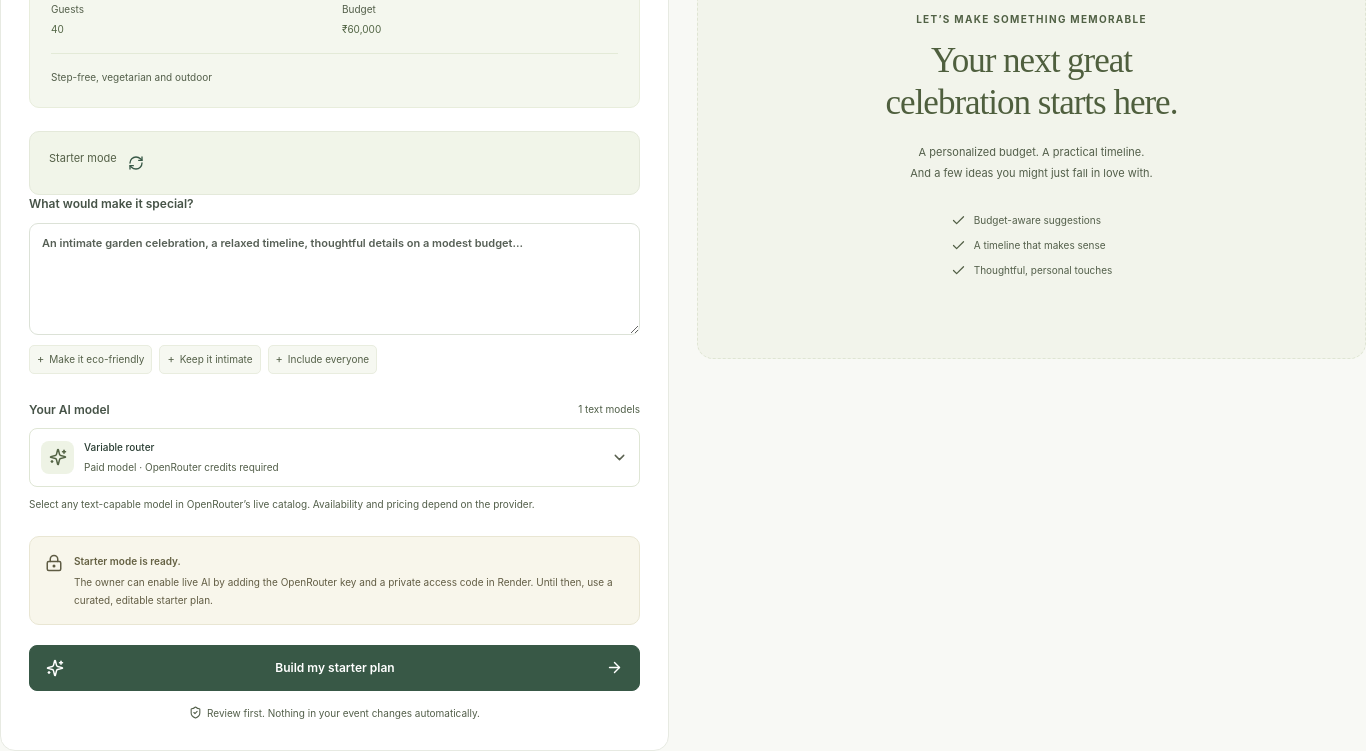
variable-price routes never display negative dollar prices in the model picker
(page scrolled)
What coordinates should you click on to do the following:
click the button named "Your AI model"
I would click on:
 (58, 457)
Its box is [29, 428, 640, 487].
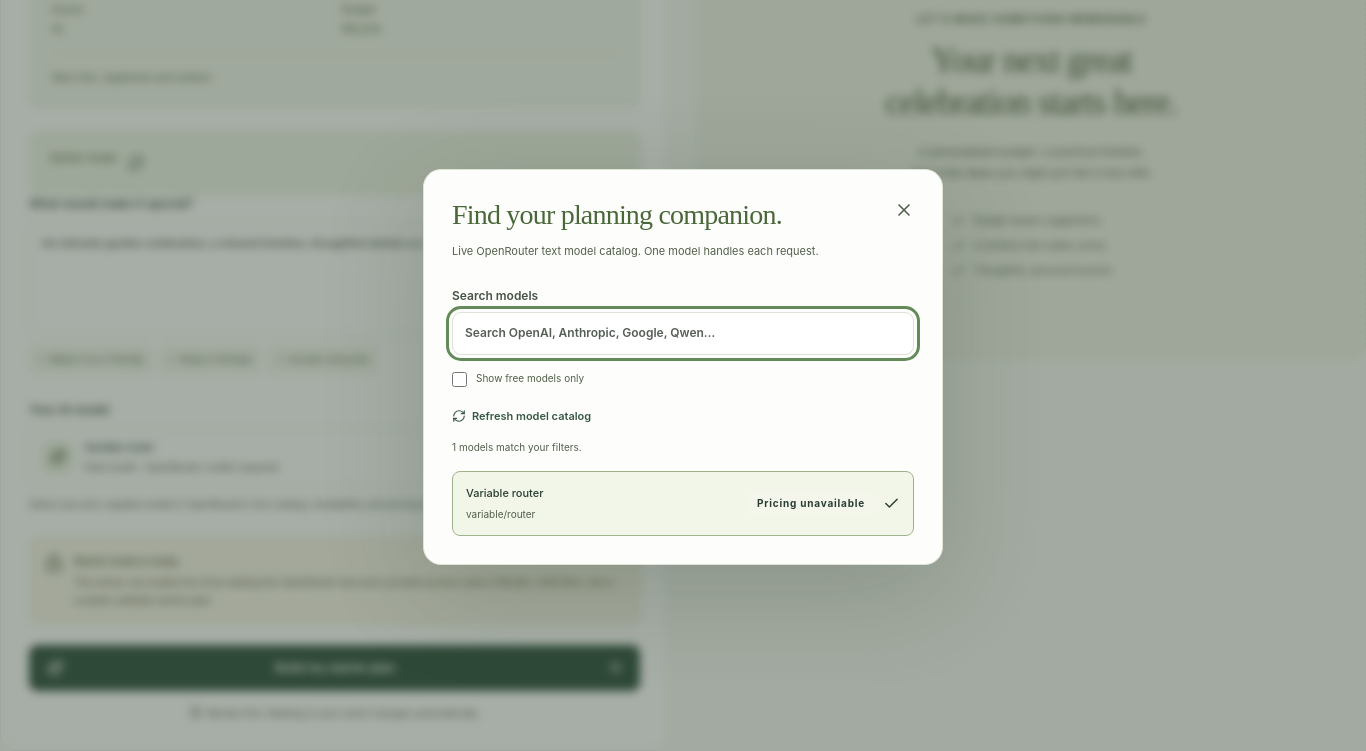
Expected: the text "Variable router" is shown, [466, 486, 543, 500]
Expected: the text "Pricing unavailable" is shown, [749, 491, 873, 516]
